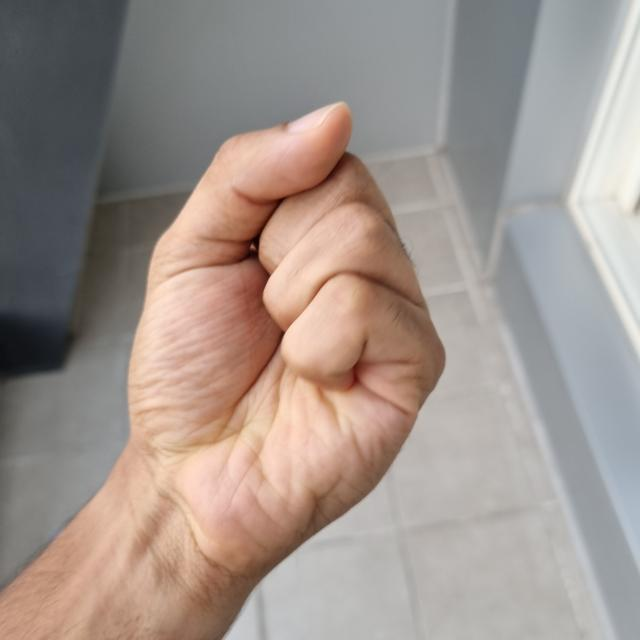Rock: (125, 110, 442, 567)
